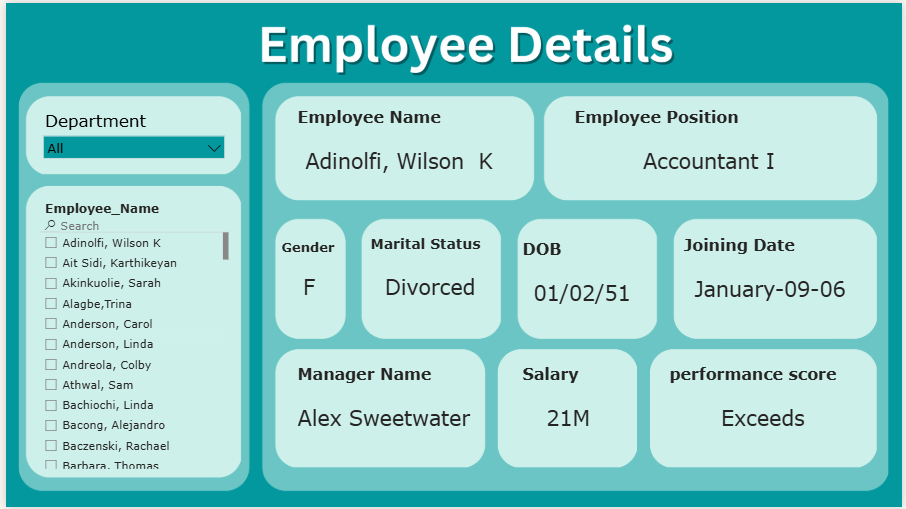

Layout of this report page (visuals, bound fields, positions):
{"tool":"powerbi","page":{"name":"Page 2","canvas":[1280,720],"ordinal":1},"visuals":[{"type":"slicer","fields":{"Values":["HRDataset.Department"]},"box":[43.3,148.3,280,76.7],"z":0},{"type":"slicer","fields":{"Values":["HRDataset.Employee_Name"]},"box":[43.3,278.3,280,391.7],"z":1000},{"type":"card","title":"Employee Name","fields":{"Values":["Min(HRDataset.Employee_Name)"]},"box":[411.7,148.3,300,126.7],"z":2000},{"type":"card","title":"Employee Position","fields":{"Values":["Min(HRDataset.Position)"]},"box":[806.7,148.3,393.3,126.7],"z":3000},{"type":"card","title":"Gender","fields":{"Values":["Min(HRDataset.Sex)"]},"box":[388.3,336.7,88.3,115],"z":4000},{"type":"card","title":"Marital Status","fields":{"Values":["Min(HRDataset.MaritalDesc)"]},"box":[515,331.7,180,126.7],"z":5000},{"type":"card","title":"DOB","fields":{"Values":["Min(HRDataset.DOB)"]},"box":[733.3,336.7,180,126.7],"z":6000},{"type":"card","title":"Joining Date","fields":{"Values":["Min(HRDataset.DateofHire)"]},"box":[963.3,331.7,256.7,126.7],"z":7000},{"type":"card","title":"Manager Name","fields":{"Values":["Min(HRDataset.ManagerName)"]},"box":[411.7,515,256.7,126.7],"z":8000},{"type":"card","title":"Salary","fields":{"Values":["Sum(HRDataset.Salary)"]},"box":[733.3,515,140,126.7],"z":9000},{"type":"card","title":"performance score","fields":{"Values":["Min(HRDataset.PerformanceScore)"]},"box":[943.3,515,276.7,126.7],"z":10000}]}

Visuals, with their boxes in screenshot pixels (x1, y1, x2, y2), scaled from the page's 1280x720 canvas onto the 906x509 screenshot:
slicer - HRDataset.Department: (left=31, top=105, right=229, bottom=159)
slicer - HRDataset.Employee_Name: (left=31, top=197, right=229, bottom=474)
"Employee Name" card: (left=291, top=105, right=504, bottom=194)
"Employee Position" card: (left=571, top=105, right=849, bottom=194)
"Gender" card: (left=275, top=238, right=337, bottom=319)
"Marital Status" card: (left=365, top=234, right=492, bottom=324)
"DOB" card: (left=519, top=238, right=646, bottom=328)
"Joining Date" card: (left=682, top=234, right=864, bottom=324)
"Manager Name" card: (left=291, top=364, right=473, bottom=454)
"Salary" card: (left=519, top=364, right=618, bottom=454)
"performance score" card: (left=668, top=364, right=864, bottom=454)
